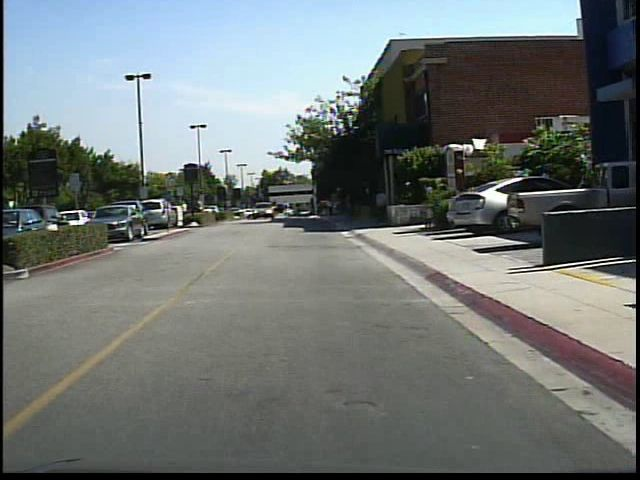person: (175, 194, 191, 225), (277, 196, 292, 223)
